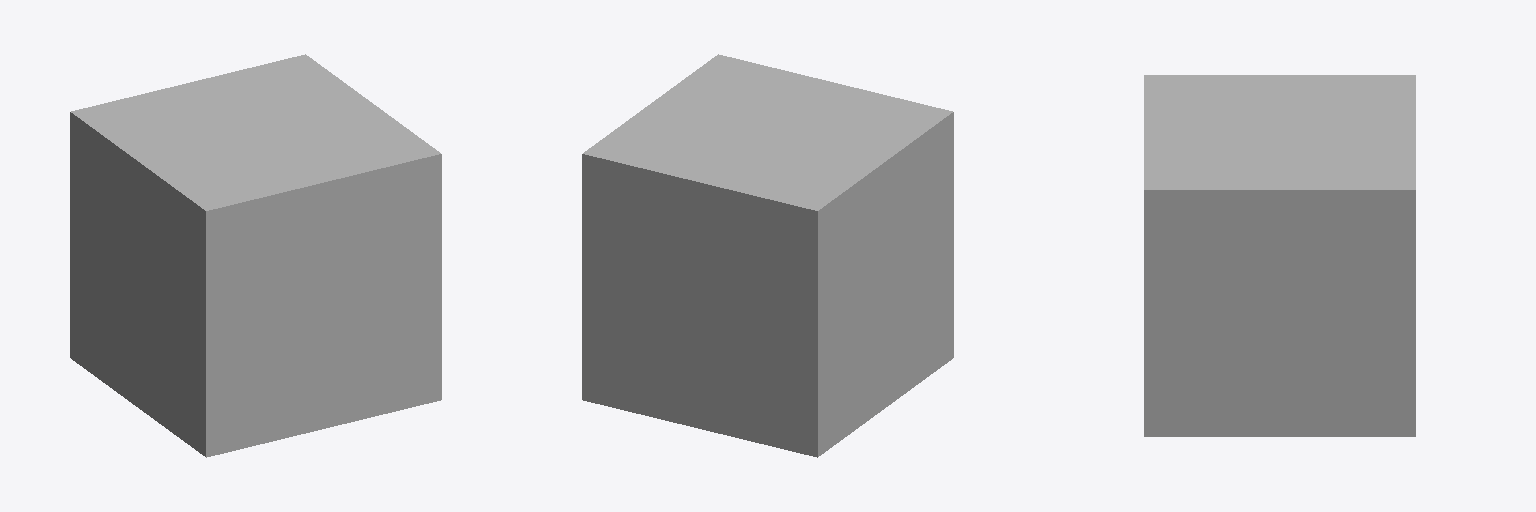
3 views of the same model, side by side, from view 1: azimuth 30°, elevation 25°; view 2: azimuth 150°, elevation 25°; view 3: azimuth 270°, elevation 25° (orthographic).
Visible parts, largest first — view 1: LeftArm; view 2: LeftArm; view 3: LeftArm.
Part boxes in pixels (left/top/right/bottom): LeftArm: left=70, top=54, right=441, bottom=457; LeftArm: left=582, top=54, right=953, bottom=457; LeftArm: left=1144, top=75, right=1415, bottom=436.
Size of the model in its own units: 0.9996 by 0.9996 by 0.9996.
Materials: 1 (1 with a texture image).